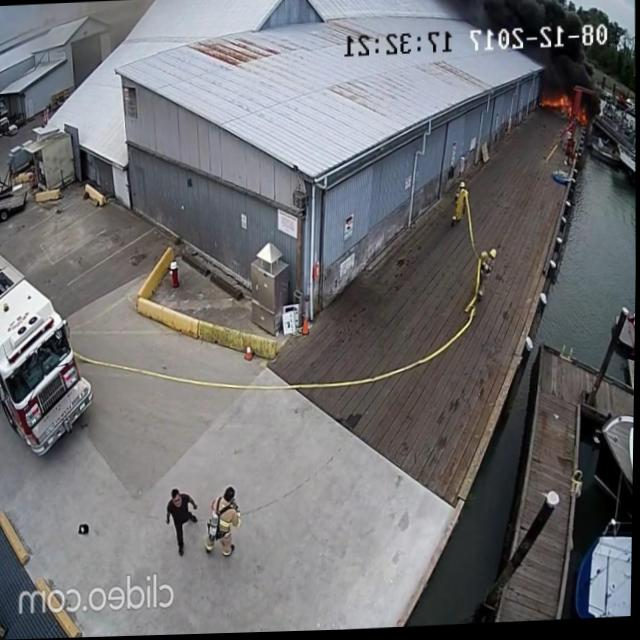fire: (539, 85, 590, 132)
